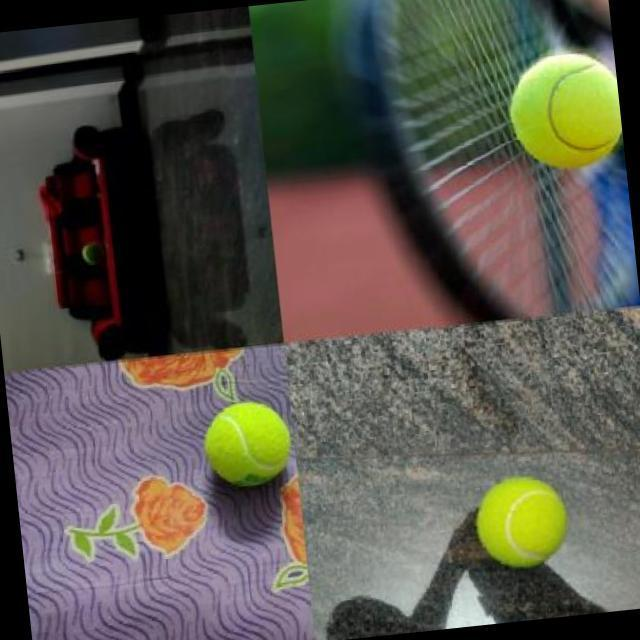-: (199, 378, 292, 503), (470, 468, 588, 566)
